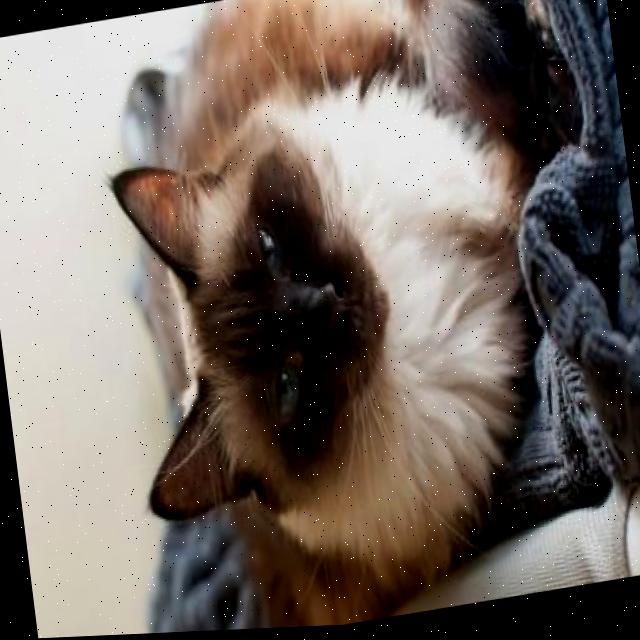Birman: (80, 0, 607, 637)
